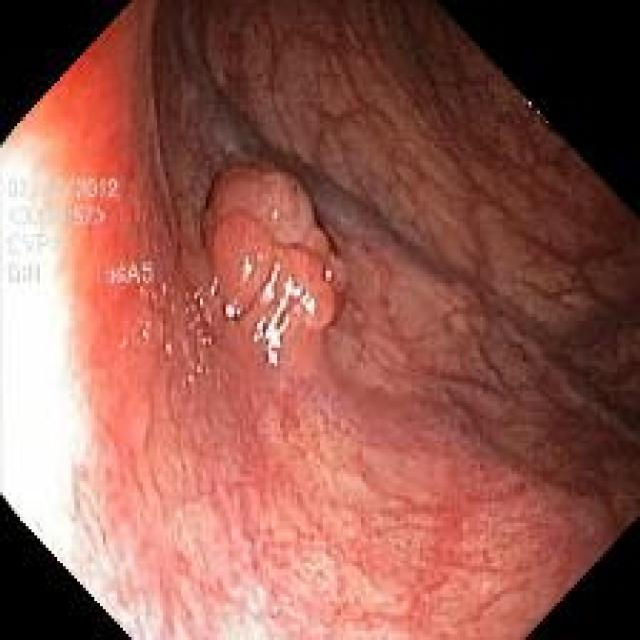Polyps: (204, 164, 346, 383)
